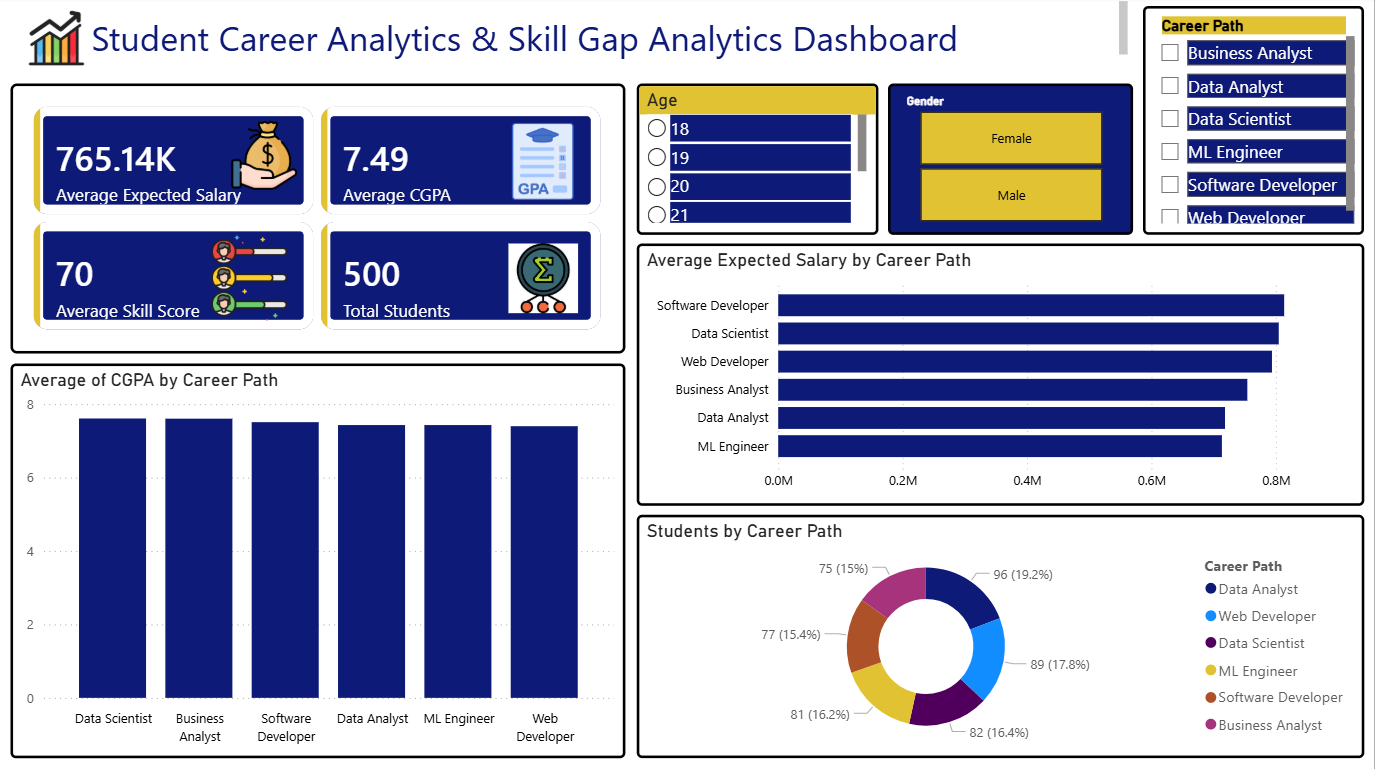

Layout of this report page (visuals, bound fields, positions):
{"tool":"powerbi","page":{"name":"Page 1","canvas":[1280,720],"ordinal":0},"visuals":[{"type":"clusteredColumnChart","fields":{"Category":["student_career_analytics.Career_Path"],"Y":["Avg(student_career_analytics.CGPA)"]},"box":[11.6,341.9,572.1,367.4],"z":0},{"type":"clusteredBarChart","fields":{"Category":["student_career_analytics.Career_Path"],"Y":["Avg(student_career_analytics.Excpected_Salary)"]},"box":[594.2,230.2,676.7,244.2],"z":1000},{"type":"slicer","fields":{"Values":["student_career_analytics.Gender"]},"box":[827.9,81.4,227.9,140.7],"z":2000},{"type":"slicer","fields":{"Values":["student_career_analytics.Career_Path"]},"box":[1065.1,9.3,205.8,212.8],"z":3000},{"type":"listSlicer","fields":{"Values":["student_career_analytics.Age "]},"box":[594.2,81.4,224.4,140.7],"z":4000},{"type":"donutChart","fields":{"Category":["student_career_analytics.Career_Path"],"Y":["CountNonNull(student_career_analytics.Student_ID)"]},"box":[594.2,482.6,676.7,226.7],"z":5000},{"type":"textbox","box":[11.6,0,1044.2,70.9],"z":7000},{"type":"cardVisual","fields":{"Data":["Avg(student_career_analytics.Excpected_Salary)","Avg(student_career_analytics.Avg CGPA)","Avg(student_career_analytics.Average_Skill)","CountNonNull(student_career_analytics.Total Students)"]},"box":[11.6,81.4,572.1,251.2],"z":7500},{"type":"image","box":[412.8,116.3,188.4,75.6],"z":10500},{"type":"image","box":[197.7,116.3,100,64],"z":11000},{"type":"image","box":[184.9,222.1,97.7,80.2],"z":11500},{"type":"image","box":[450,230.2,114,65.1],"z":12501},{"type":"image","box":[11.6,9.3,86,61.6],"z":13002}]}

Visuals, with their boxes in screenshot pixels (x1, y1, x2, y2), scaled from the page's 1280x720 canvas onto the 1377x769 screenshot:
clusteredColumnChart - student_career_analytics.Career_Path x Avg(student_career_analytics.CGPA): [12, 365, 628, 758]
clusteredBarChart - student_career_analytics.Career_Path x Avg(student_career_analytics.Excpected_Salary): [639, 246, 1367, 507]
slicer - student_career_analytics.Gender: [891, 87, 1136, 237]
slicer - student_career_analytics.Career_Path: [1146, 10, 1367, 237]
listSlicer - student_career_analytics.Age : [639, 87, 881, 237]
donutChart - student_career_analytics.Career_Path x CountNonNull(student_career_analytics.Student_ID): [639, 515, 1367, 758]
textbox: [12, 0, 1136, 76]
cardVisual - Avg(student_career_analytics.Excpected_Salary) x Avg(student_career_analytics.Avg CGPA): [12, 87, 628, 355]
image: [444, 124, 647, 205]
image: [213, 124, 320, 193]
image: [199, 237, 304, 323]
image: [484, 246, 607, 315]
image: [12, 10, 105, 76]
